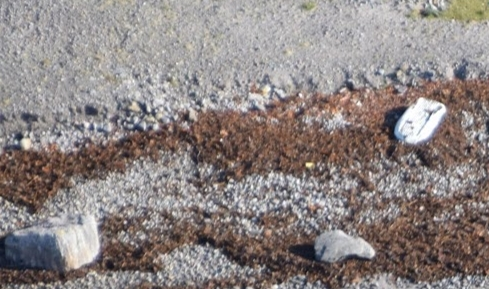boat_cabin: (385, 93, 452, 150)
